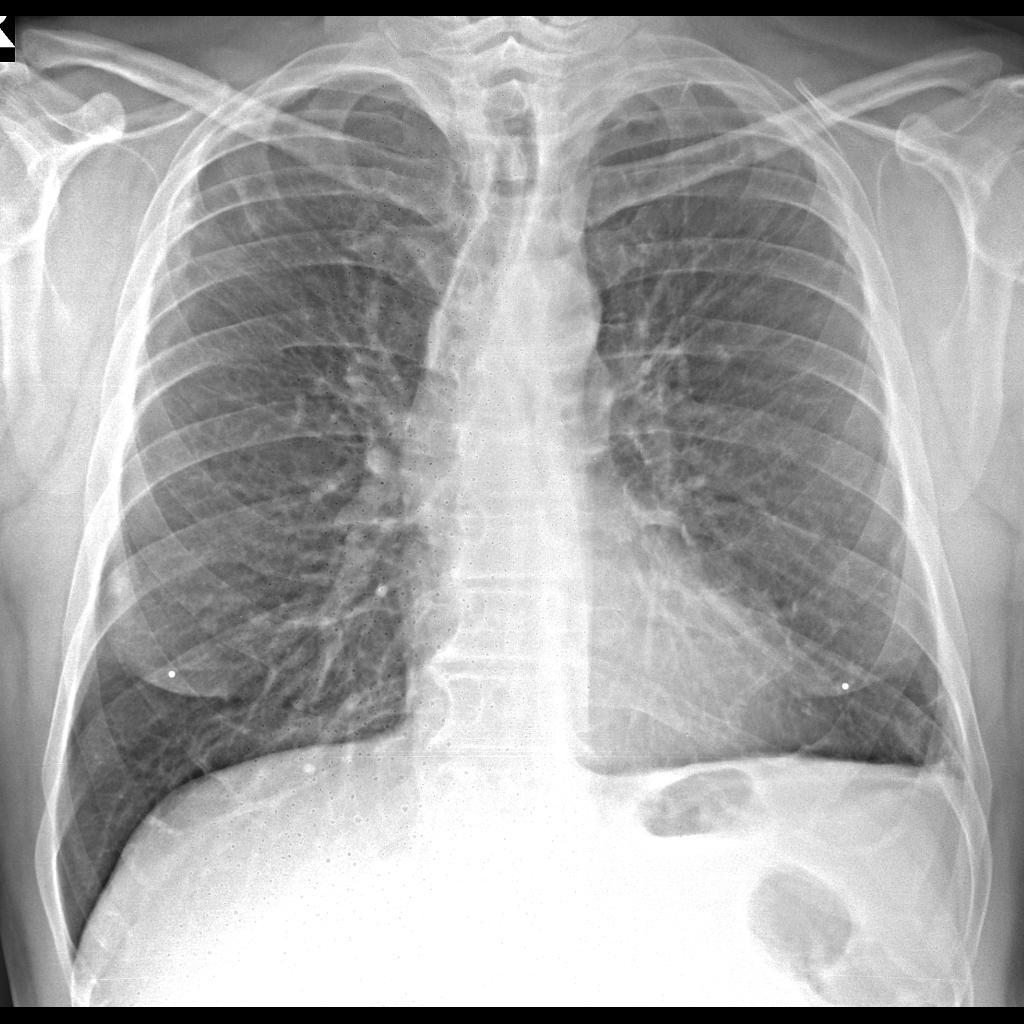Nodule: (99, 544, 154, 621)
